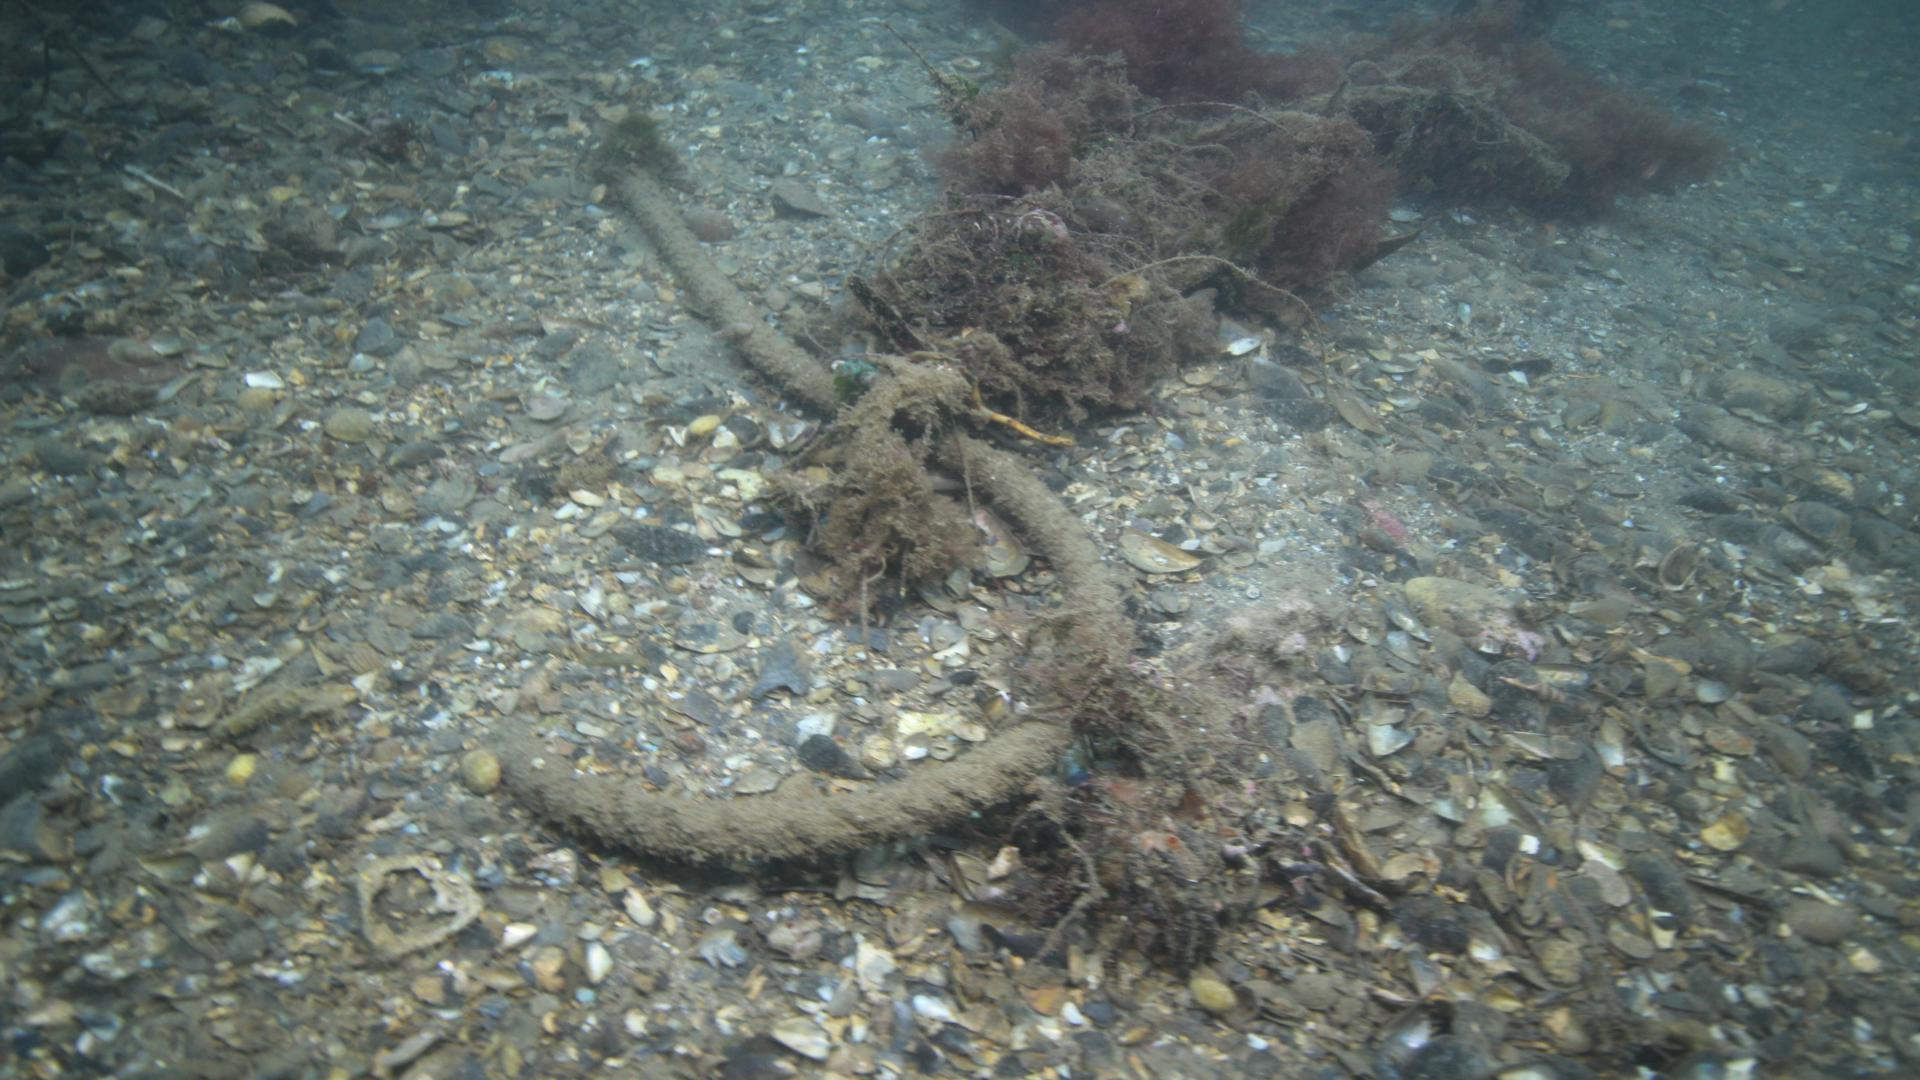rope: (492, 138, 1139, 876)
